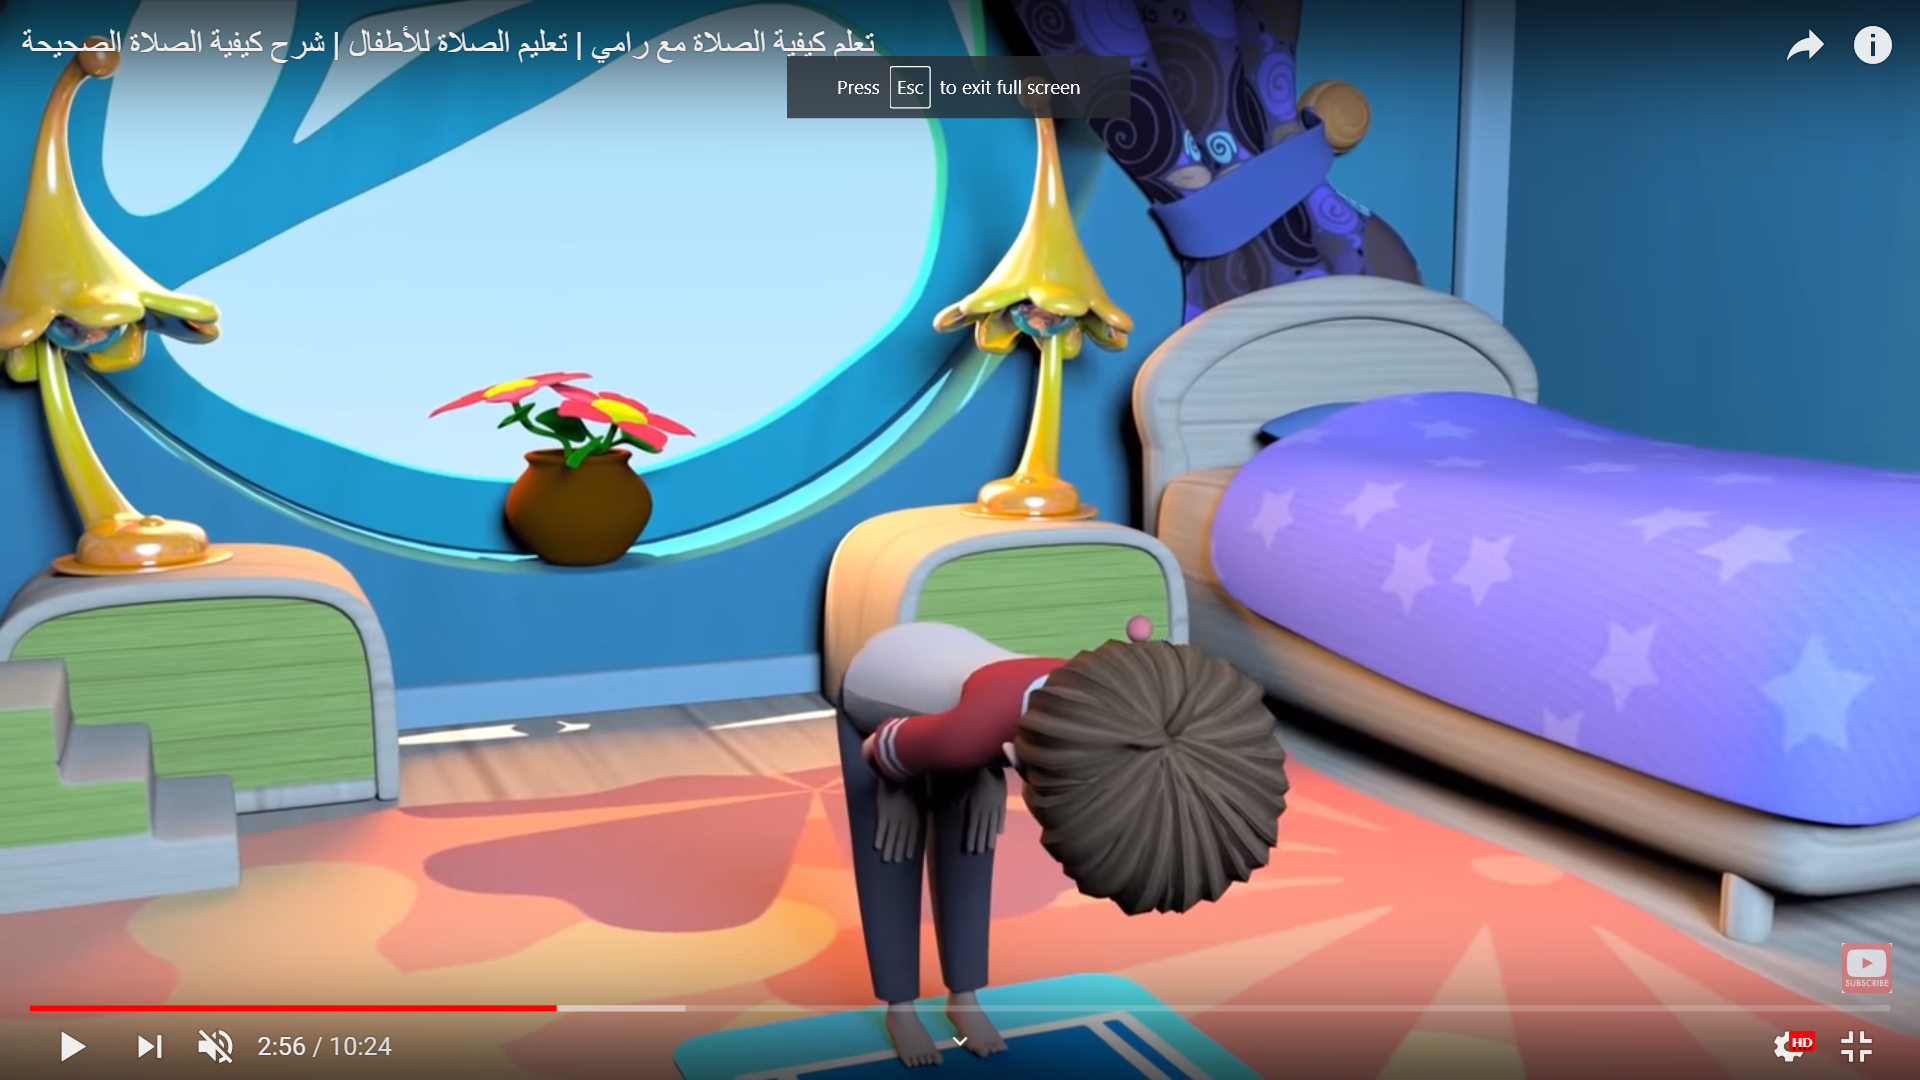ruku: (448, 526, 1418, 1054)
